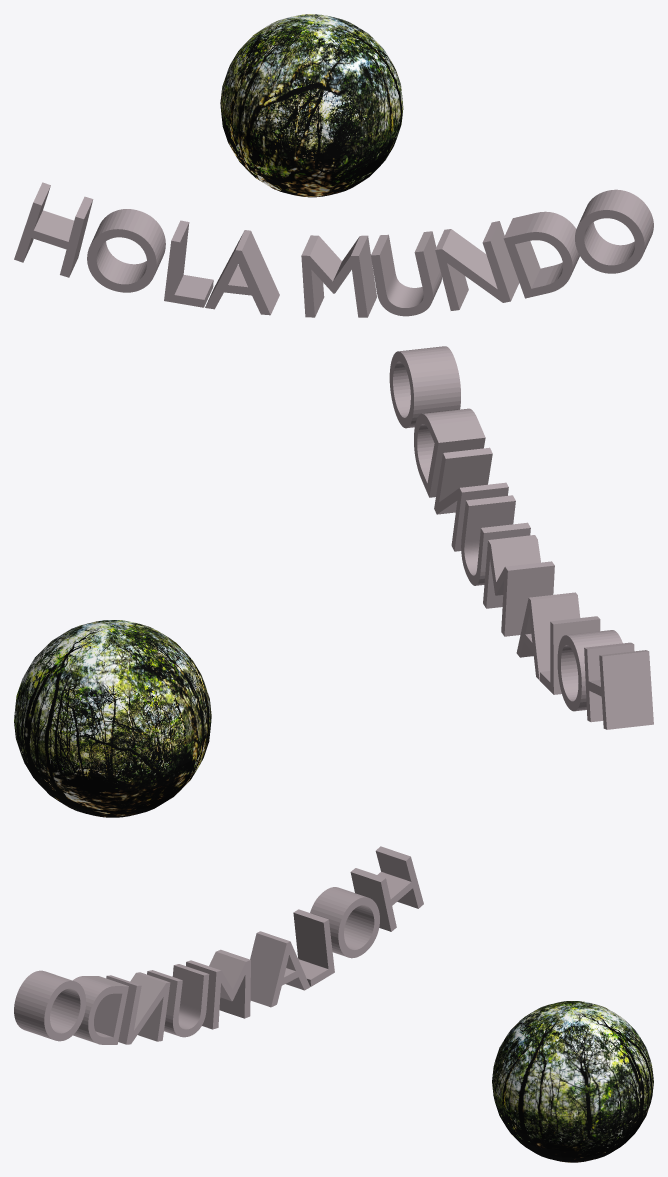
File: ahorasi2.dae
3 views of the same model, one above another, from view 1: azimuth 30°, elevation 25°; view 2: azimuth 150°, elevation 25°; view 3: azimuth 270°, elevation 25° (orthographic). The views are drawn at different scales.
Parts seen in each view (by area): view 1: Text, Sphere; view 2: Text, Sphere; view 3: Text, Sphere.
Part boxes in pixels (x1,y1,x2,y2): Text: [14, 182, 653, 317]; Sphere: [220, 14, 403, 197]; Text: [389, 346, 653, 729]; Sphere: [14, 620, 211, 817]; Text: [14, 846, 423, 1044]; Sphere: [492, 1001, 653, 1162].
Size of the model in its own units: 6.03 by 7.9 by 2.47.
2 materials, 1 textured.
